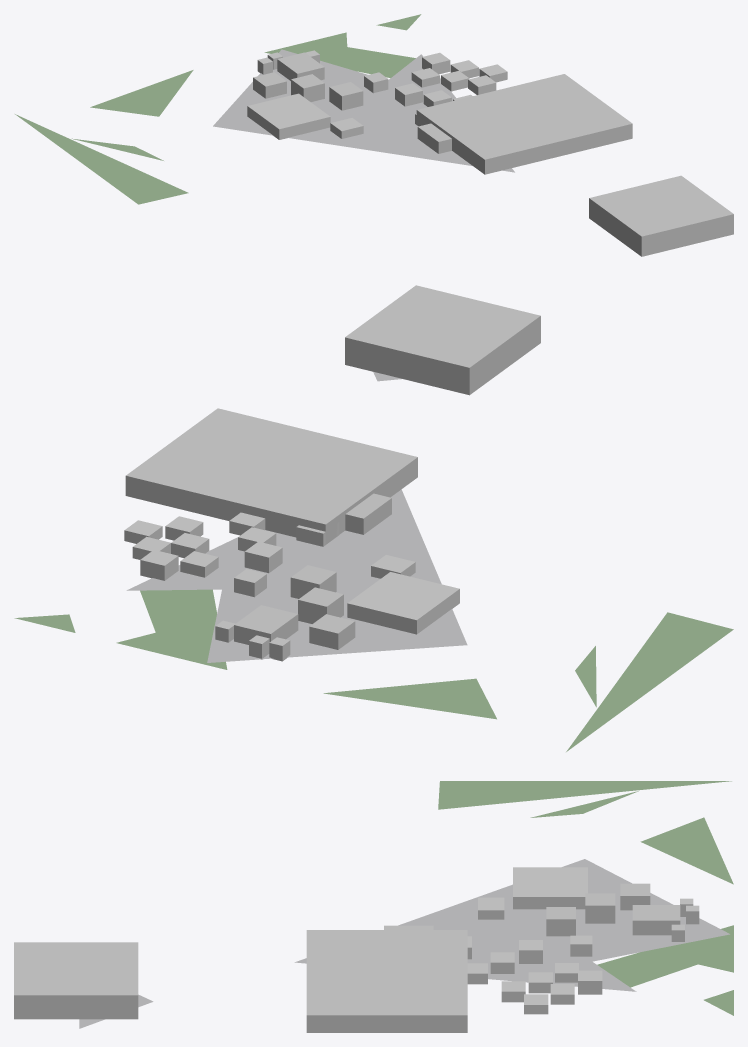
Rendered from 110_75_mid.glb.
The picture shows the model from 3 angles, top to bottom: view 1: azimuth 30°, elevation 25°; view 2: azimuth 150°, elevation 25°; view 3: azimuth 270°, elevation 25°; orthographic projection. The views are drawn at different scales.
Size of the model in its own units: 456 by 21.5 by 550.
